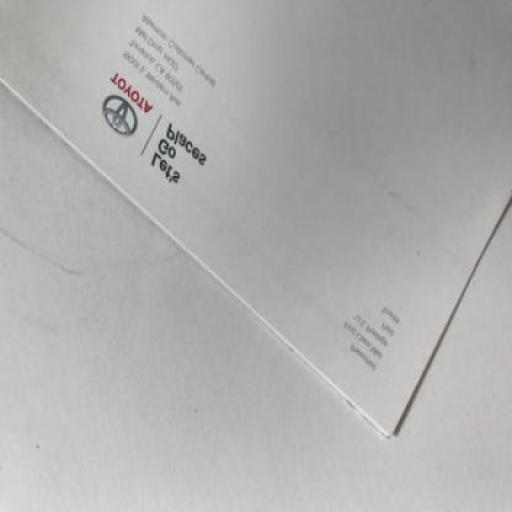paper: (0, 1, 511, 442)
